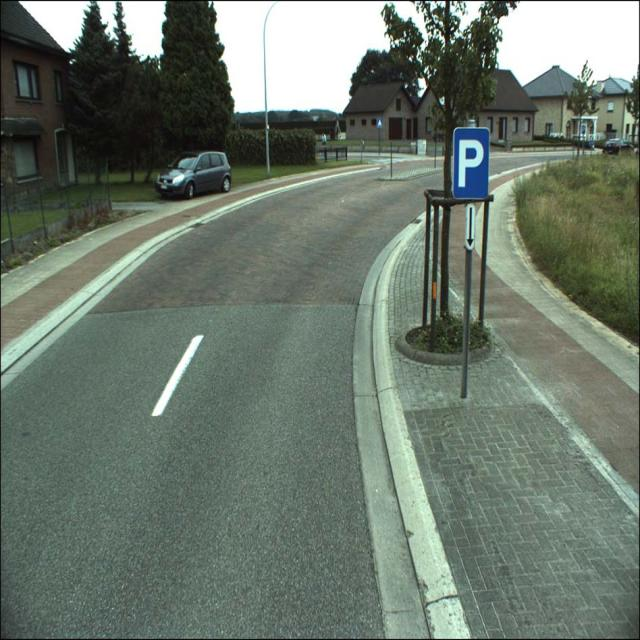park: (453, 127, 489, 198)
